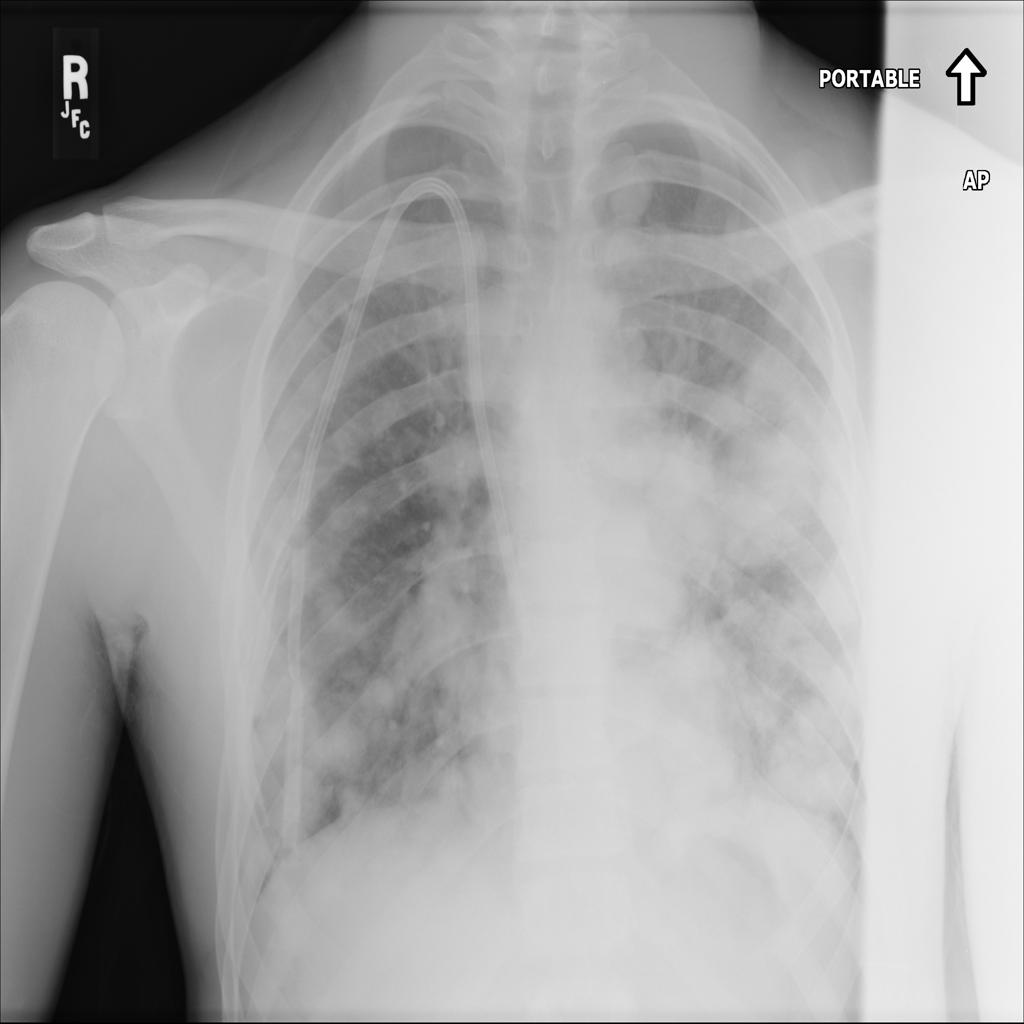nodule: (700, 444, 828, 575), (390, 560, 492, 698), (759, 701, 861, 822), (410, 411, 506, 517), (270, 753, 335, 843), (305, 707, 377, 787), (596, 151, 667, 228), (304, 573, 372, 648), (321, 485, 372, 539)
